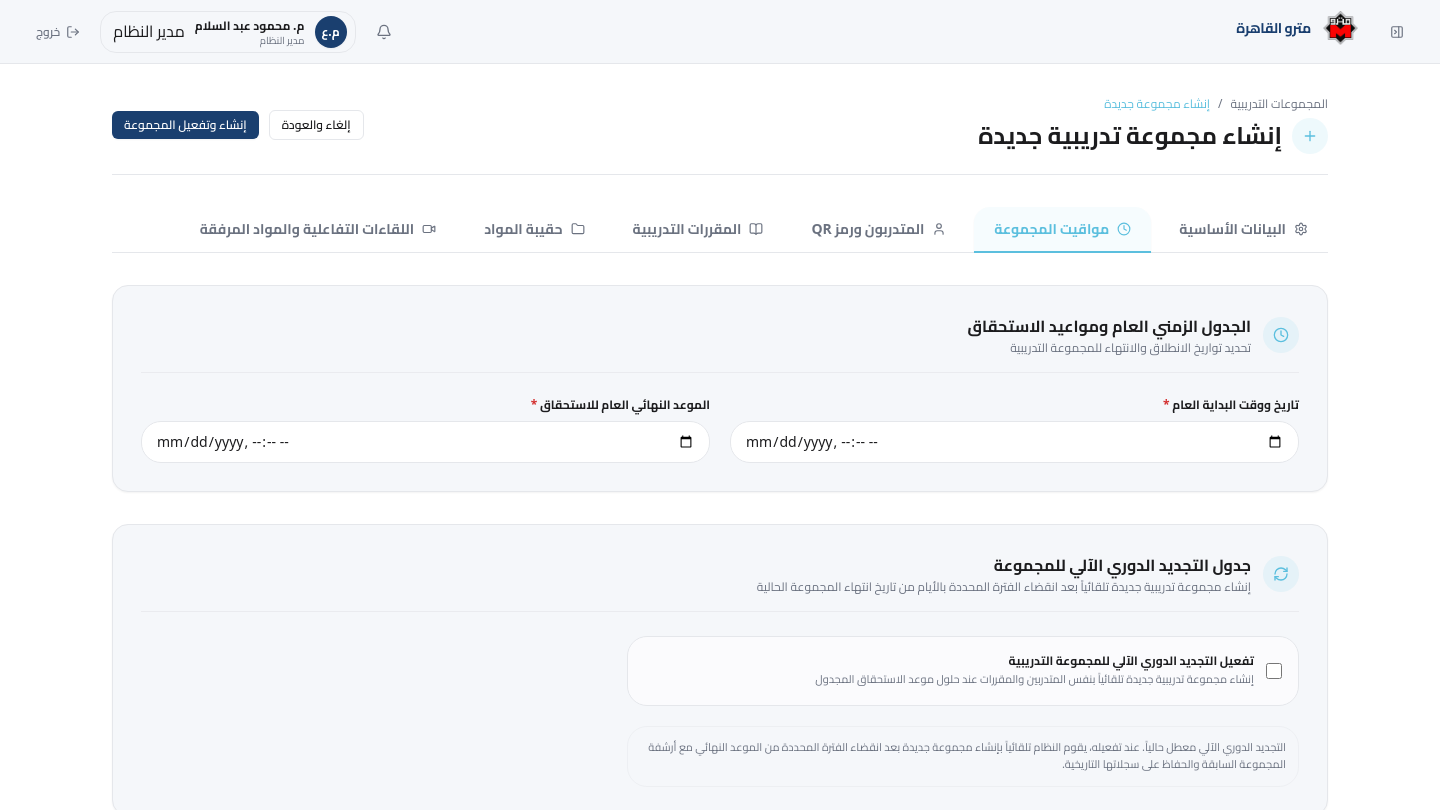
Custom Day-Based Automatic Group Renewal › 5. UI Integration & Form Validation (GroupEditorPage) › renders auto-renewal toggle and toggles interval controls
Note: Toggle ON
Click the checkbox with test id "auto-renewal-toggle": (1274, 671) [1266,663,1282,679]
(page scrolled)
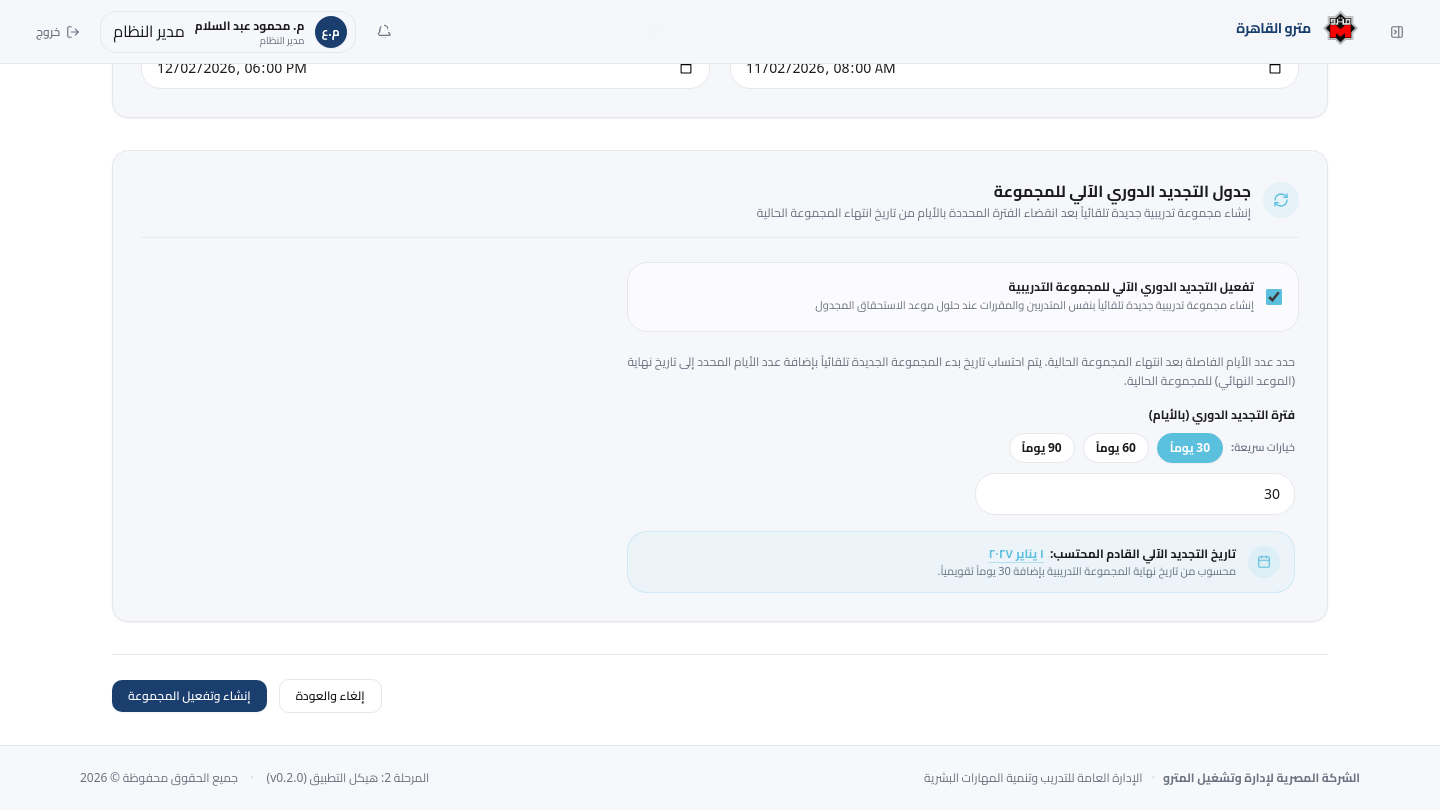
expect the checkbox with test id "auto-renewal-toggle" is checked: met, box [1266,289,1282,305]
expect the number field with test id "renewal-interval-days-input" is shown: met, box [975,473,1295,515]
expect the button with test id "preset-interval-30" is shown: met, box [1157,433,1223,463]
